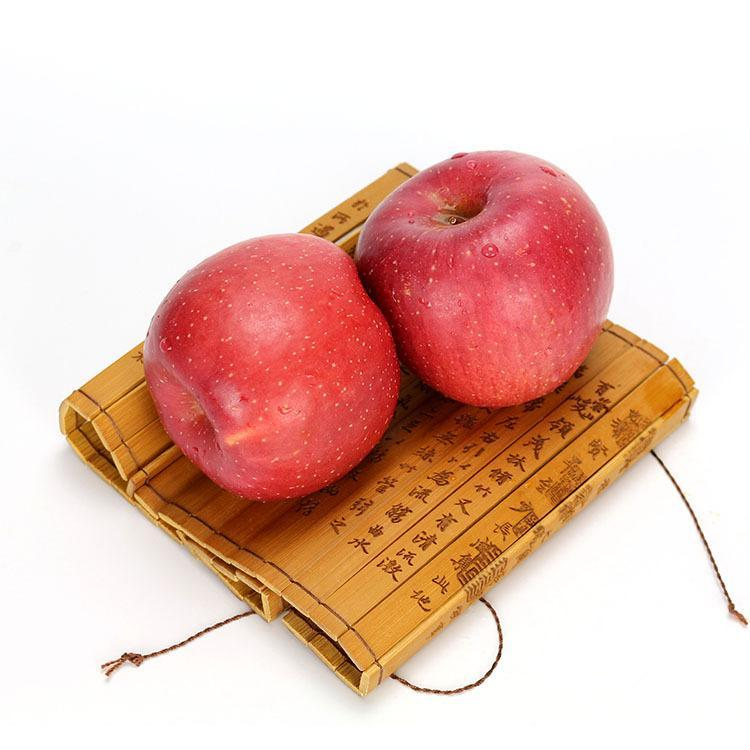apple: (138, 233, 398, 513), (358, 149, 613, 408)
